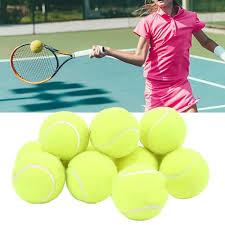ball_tennis: (112, 162, 167, 221), (12, 152, 65, 204), (66, 151, 118, 204), (90, 102, 138, 158), (159, 148, 209, 199), (39, 111, 89, 160), (139, 106, 186, 154), (30, 40, 43, 53)
